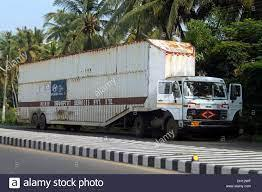Truck: (17, 39, 242, 140)
